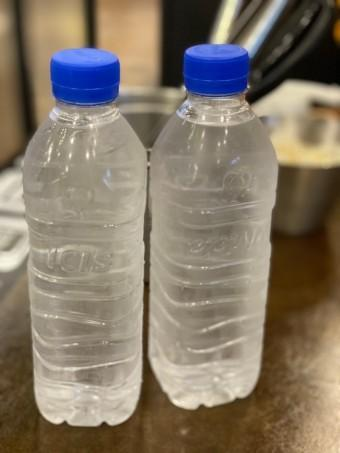bottle: (22, 45, 151, 428), (144, 47, 280, 410)
